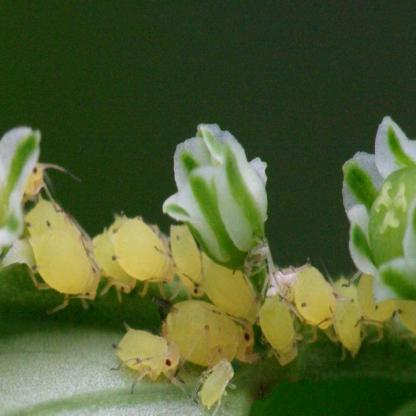aphid: (21, 188, 100, 300), (163, 290, 258, 376), (109, 318, 188, 392), (186, 245, 259, 318), (108, 205, 172, 287), (78, 222, 143, 297), (248, 288, 306, 368), (287, 250, 333, 335), (358, 276, 416, 342), (159, 226, 209, 291), (22, 151, 75, 211), (195, 351, 241, 414), (332, 283, 364, 356)
